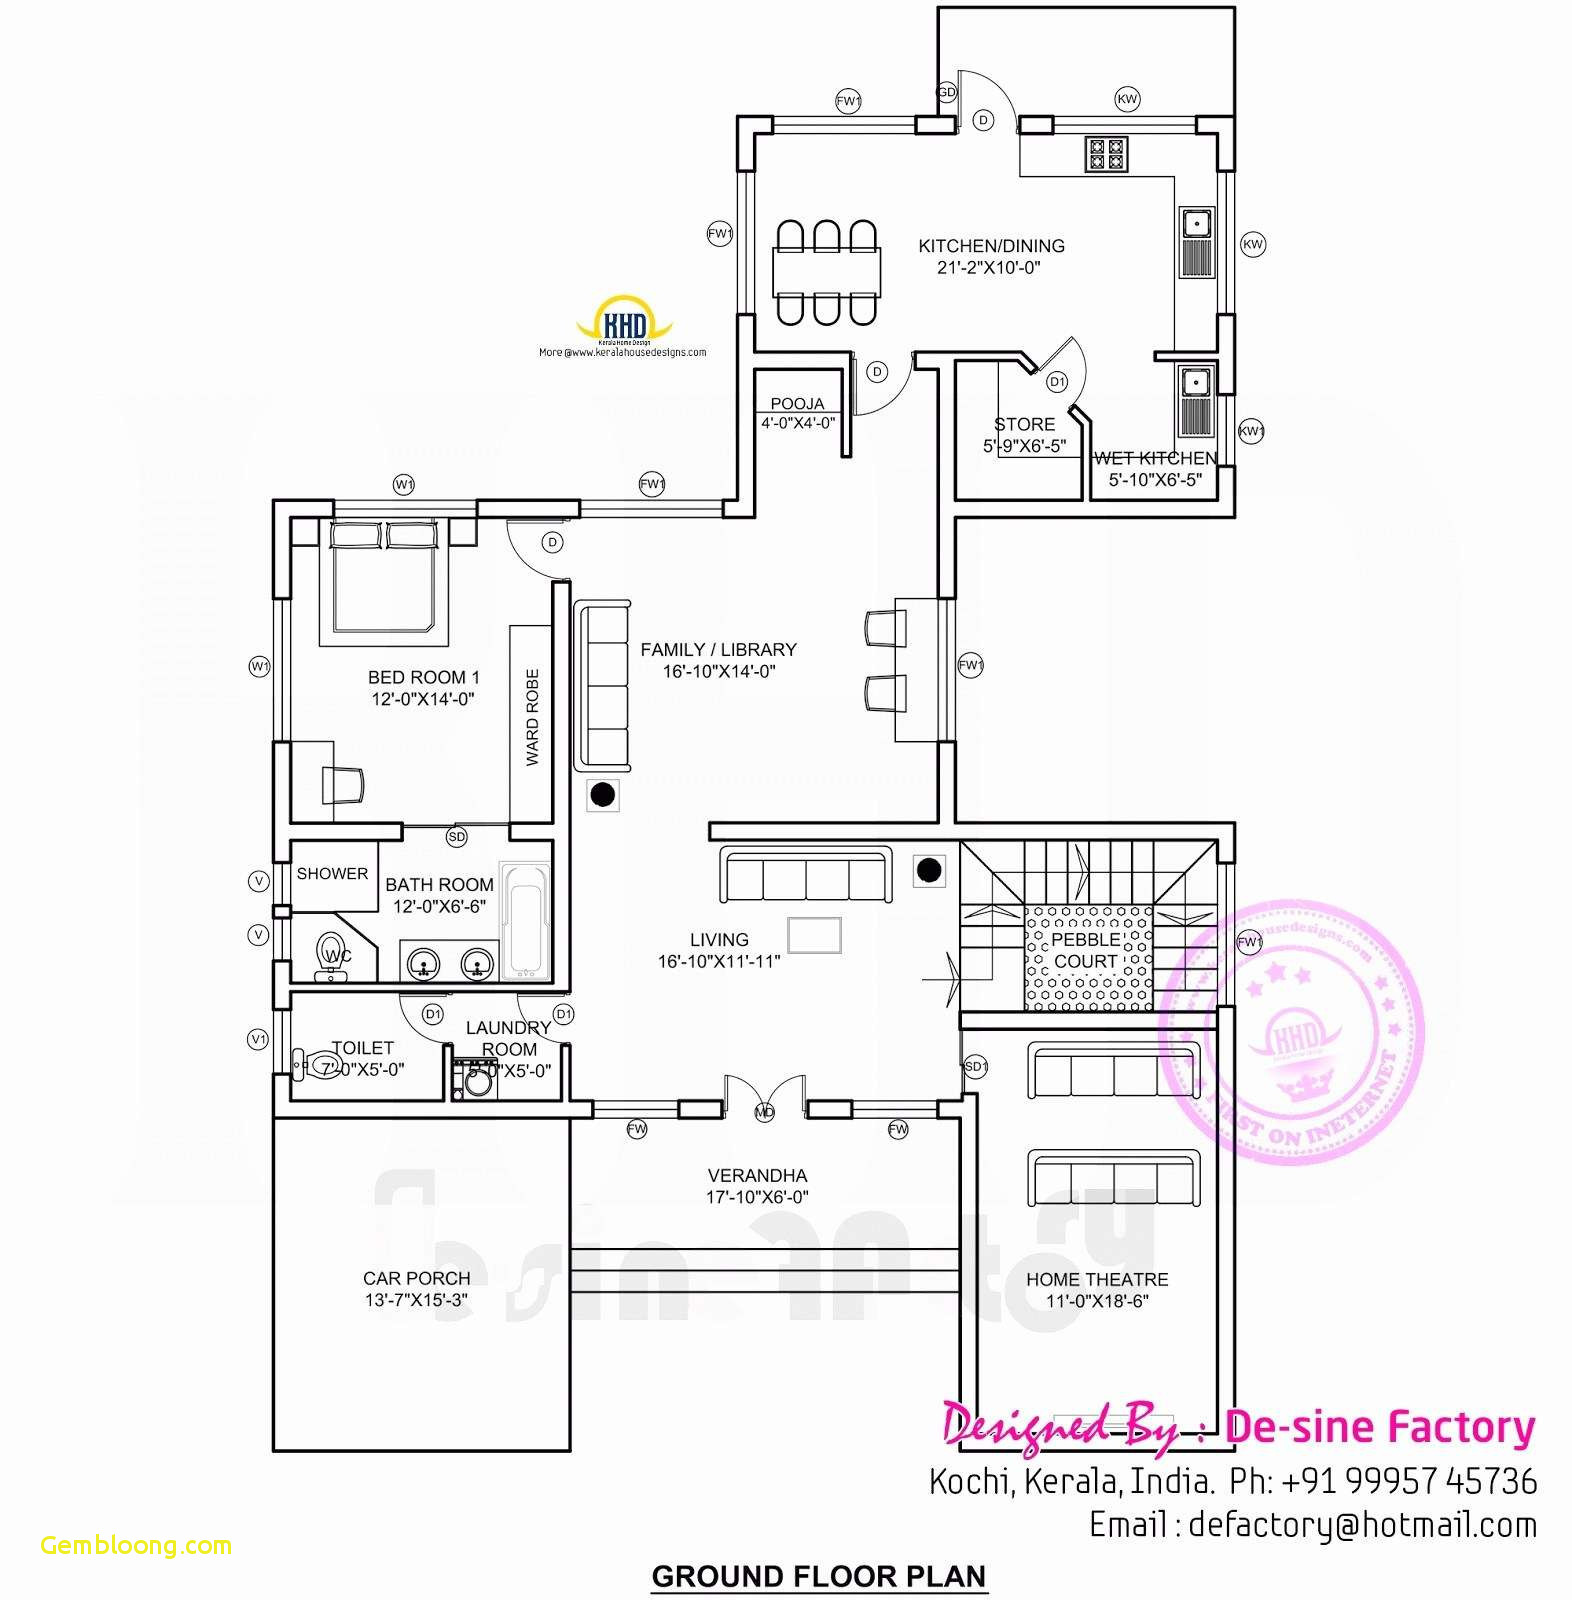room: (751, 354, 851, 366), (842, 370, 849, 455)
wall: (1216, 1007, 1237, 1408), (956, 821, 1237, 840), (551, 580, 572, 828), (962, 1095, 977, 1406), (737, 315, 759, 518), (710, 822, 944, 840), (962, 1012, 1216, 1028), (939, 372, 959, 520), (286, 984, 567, 994), (954, 498, 1088, 518), (554, 840, 572, 992), (1085, 501, 1237, 518), (274, 740, 292, 863), (937, 740, 956, 841), (294, 822, 402, 840), (449, 1102, 593, 1115), (274, 518, 294, 598), (1216, 311, 1235, 396), (476, 501, 582, 514), (295, 1103, 446, 1112), (939, 520, 954, 595), (559, 1043, 572, 1120), (507, 825, 574, 840), (274, 1073, 294, 1120), (275, 501, 334, 517), (442, 1046, 455, 1116), (913, 351, 949, 376), (738, 117, 754, 171), (276, 962, 294, 1007), (1196, 112, 1234, 132), (806, 1102, 854, 1118), (917, 117, 959, 134), (679, 1102, 721, 1118), (1218, 131, 1234, 171), (723, 498, 749, 521), (736, 117, 772, 132), (1219, 467, 1238, 497), (1157, 351, 1216, 360), (950, 351, 1021, 359), (1025, 117, 1055, 132), (1216, 840, 1234, 866), (939, 1105, 962, 1118), (275, 906, 294, 914)
